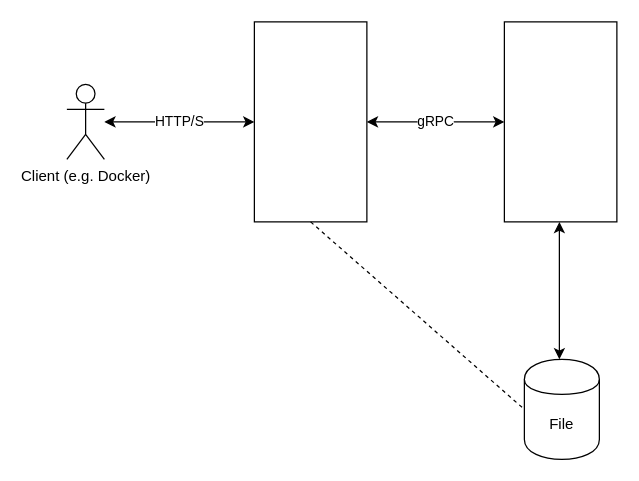
Some shapes in this 639 by 481 pixel diagram are drawn without their labels. Each missing label, with the box of its shape:
Back End: (503, 21, 617, 222)
Front End: (253, 21, 367, 222)
